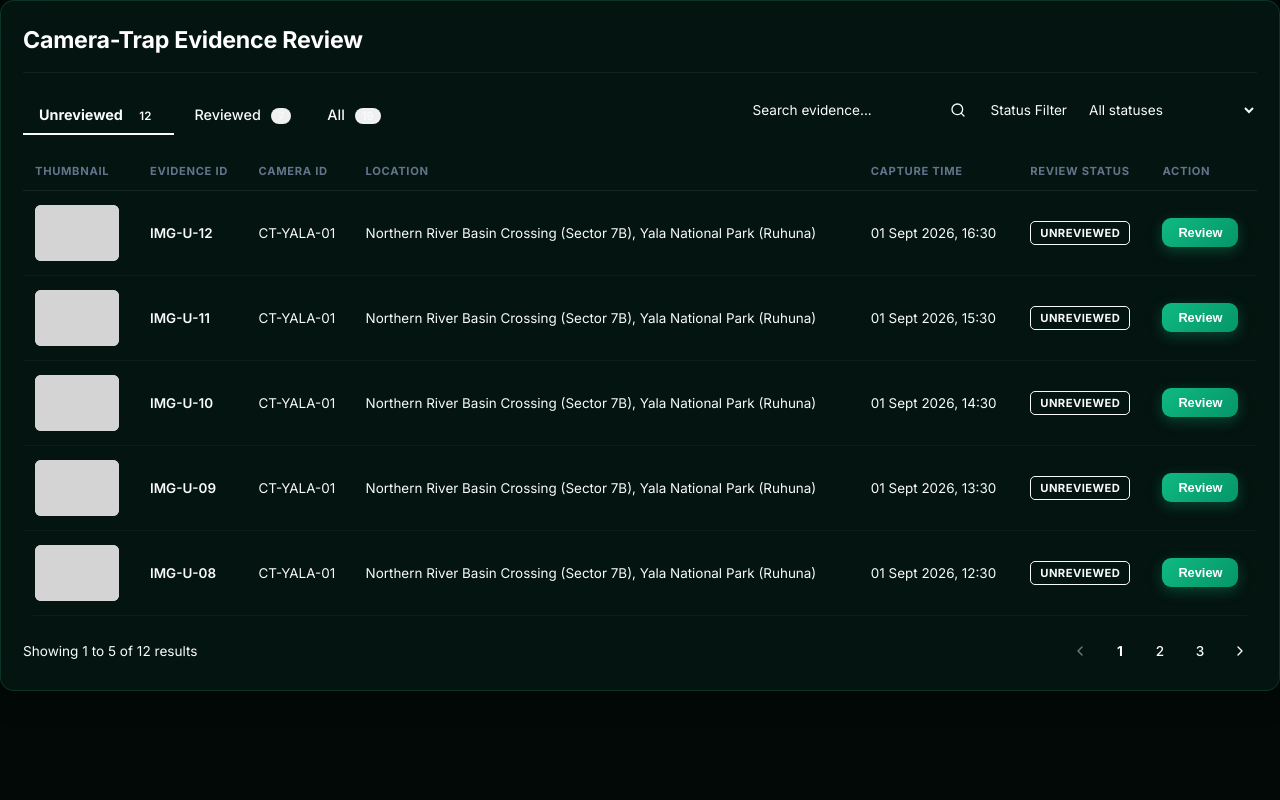
Test: EvidenceReviewQueue - pagination › changing the status filter resets to page 1
The image size is (1280, 800).
Click the button named "Page 3" at (1200, 651), box [1183,634,1217,668]
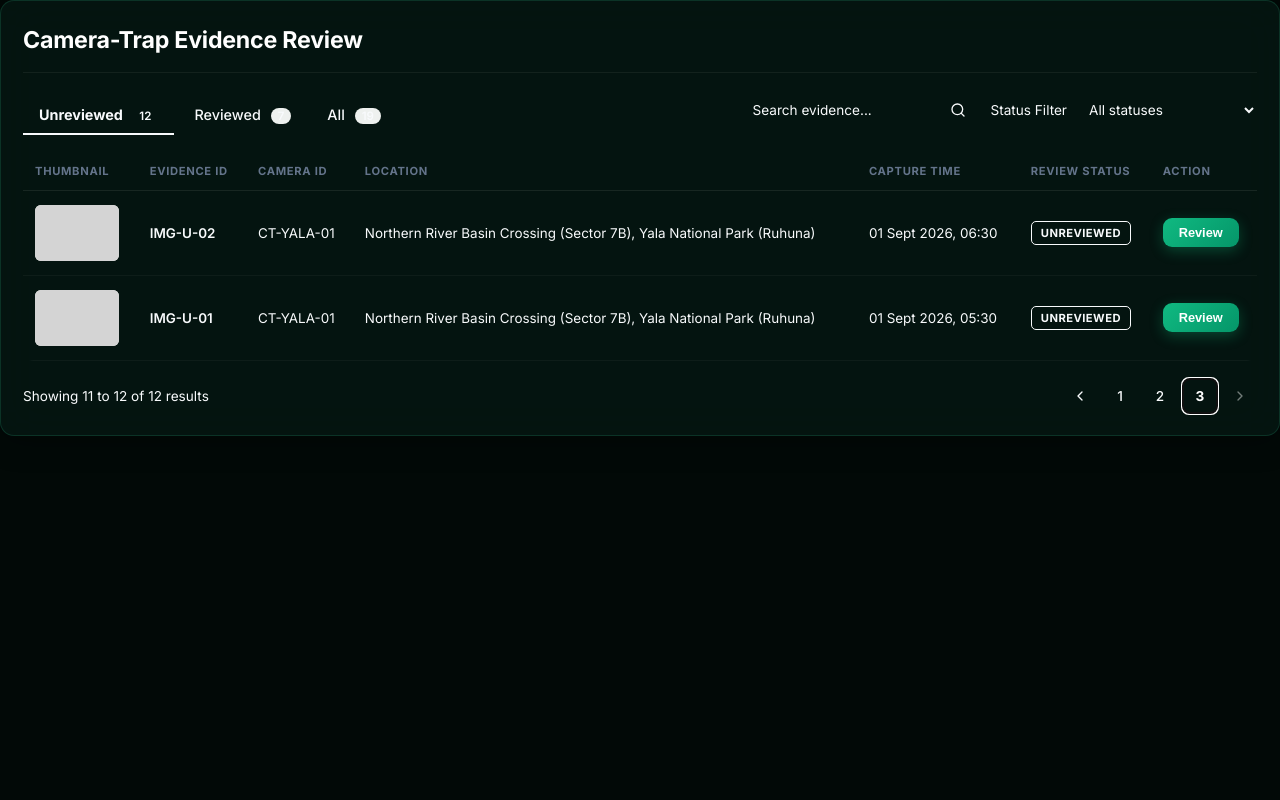
Select "Unreviewed" in the dropdown labelled "Status Filter" at (1166, 110), box [1075,93,1257,127]
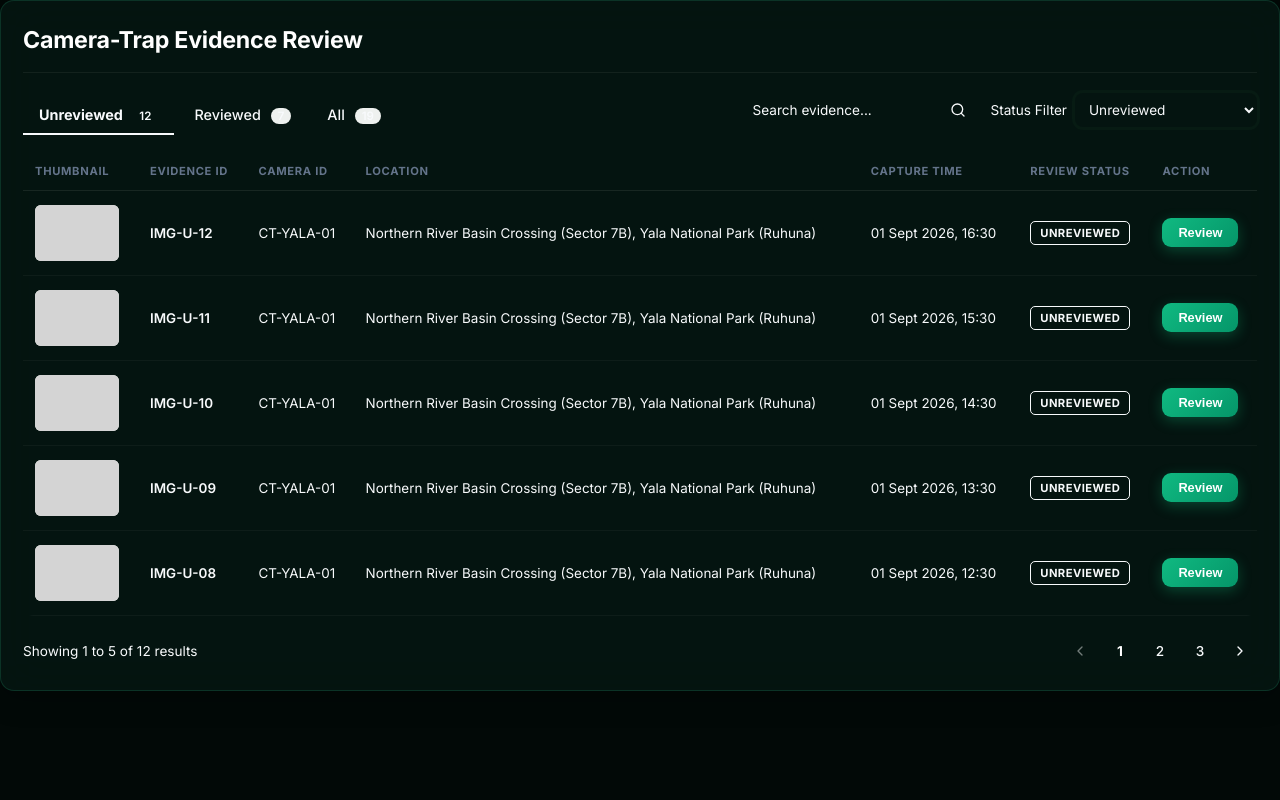
Check: the text "Showing 1 to 5 of 12 results" is shown, box [23,641,198,661]
